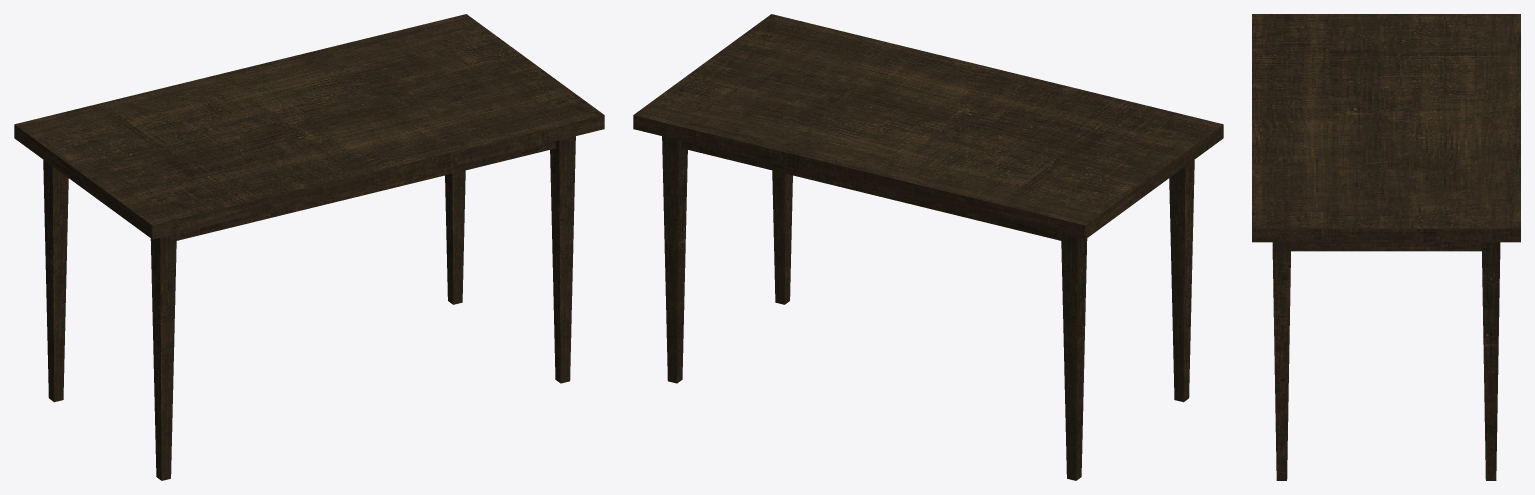
File: table_large_2_3.glb
3 views of the same model, side by side, from view 1: azimuth 30°, elevation 25°; view 2: azimuth 150°, elevation 25°; view 3: azimuth 270°, elevation 25° (orthographic). The views are drawn at different scales.
Visible parts, largest first — view 1: table_large_2_3; view 2: table_large_2_3; view 3: table_large_2_3.
Part boxes in pixels (x1,y1,x2,y2): table_large_2_3: (14, 14, 604, 480); table_large_2_3: (633, 14, 1223, 480); table_large_2_3: (1252, 14, 1520, 480).
Bounding box in the file's own units: 1.7 × 0.97 × 0.9.
1 material, 1 textured.
